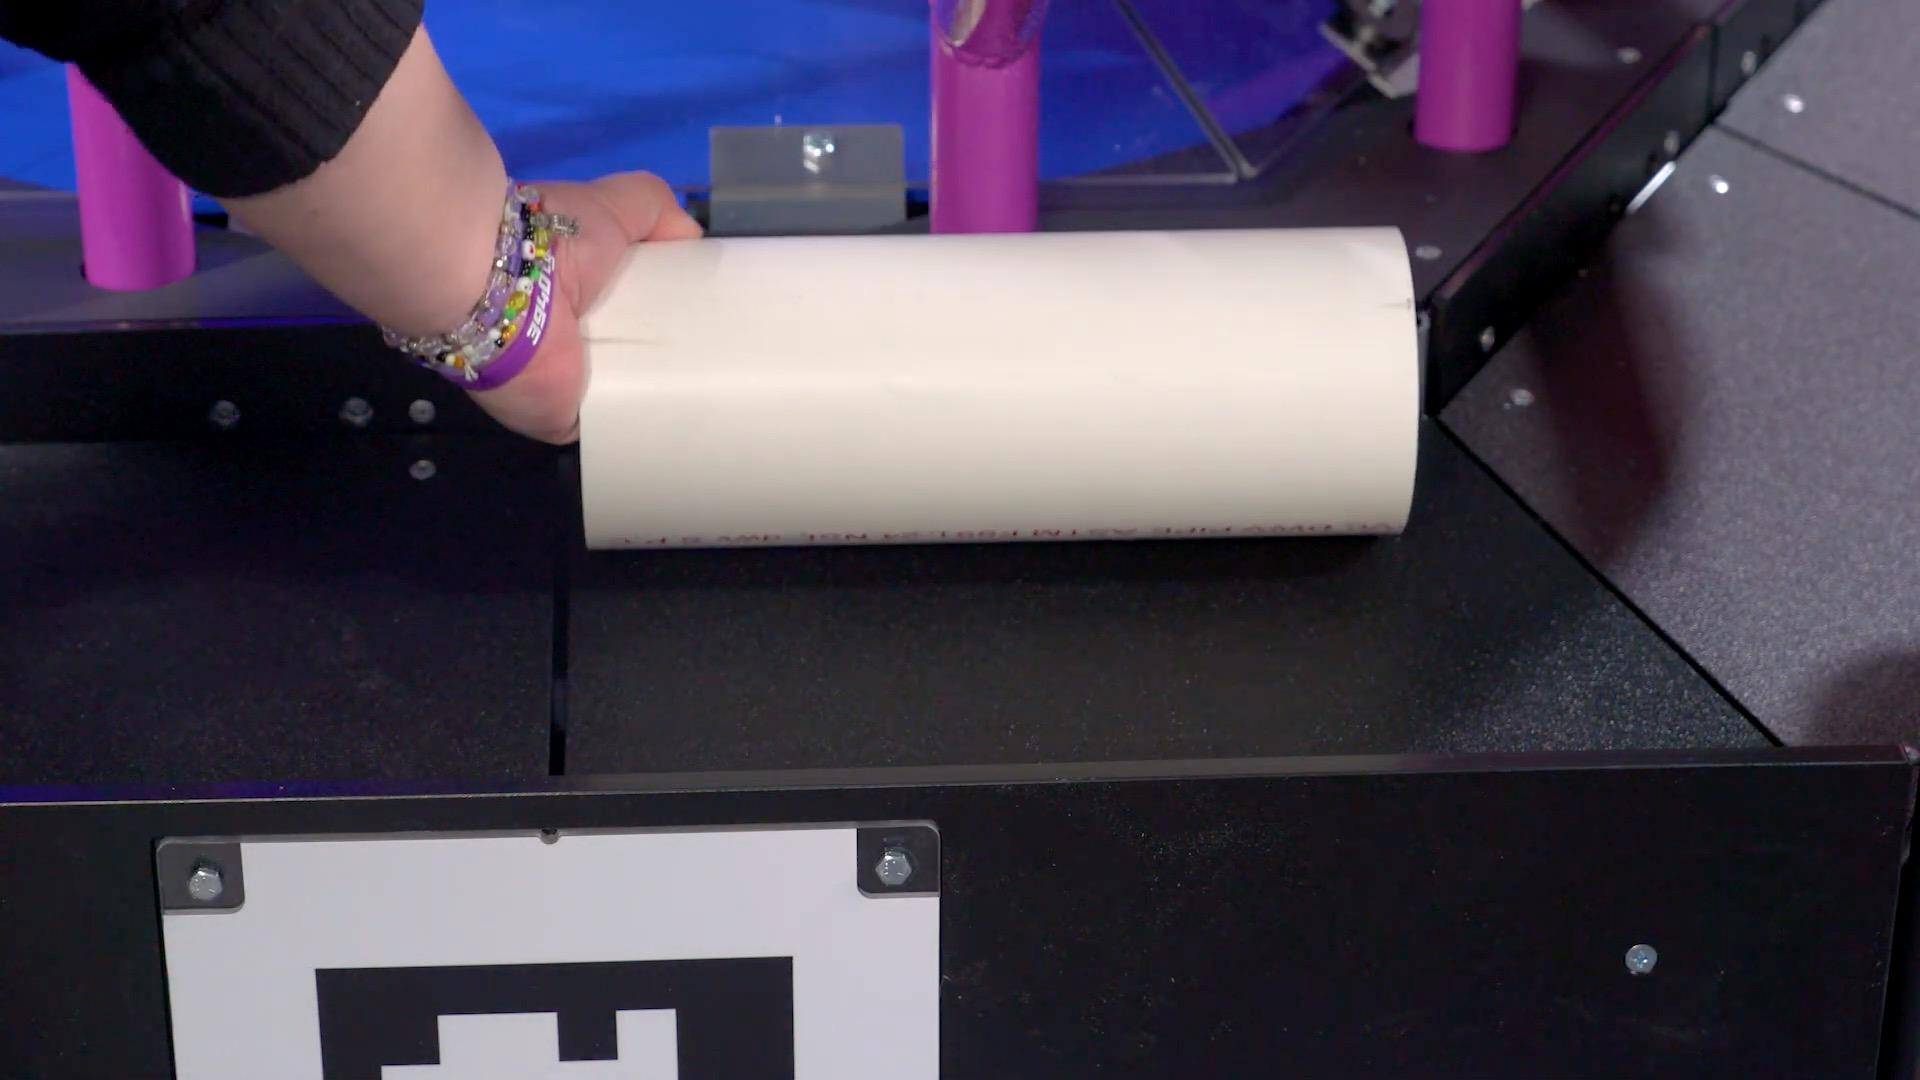CORAL: (574, 222, 1423, 550)
